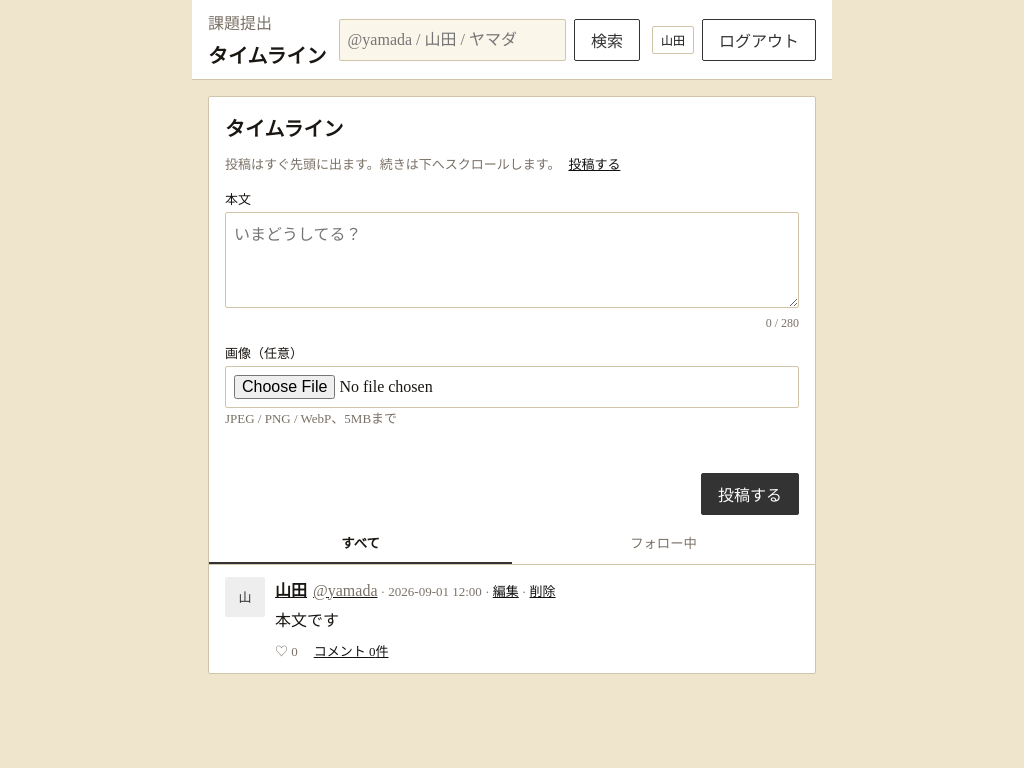
Test: TimelinePage › keeps the post when delete API fails
Expected: the text "本文です" is shown, [275,612,339,629]
Step 1. Click the button "削除" → click(543, 590), box [530,581,556,600]
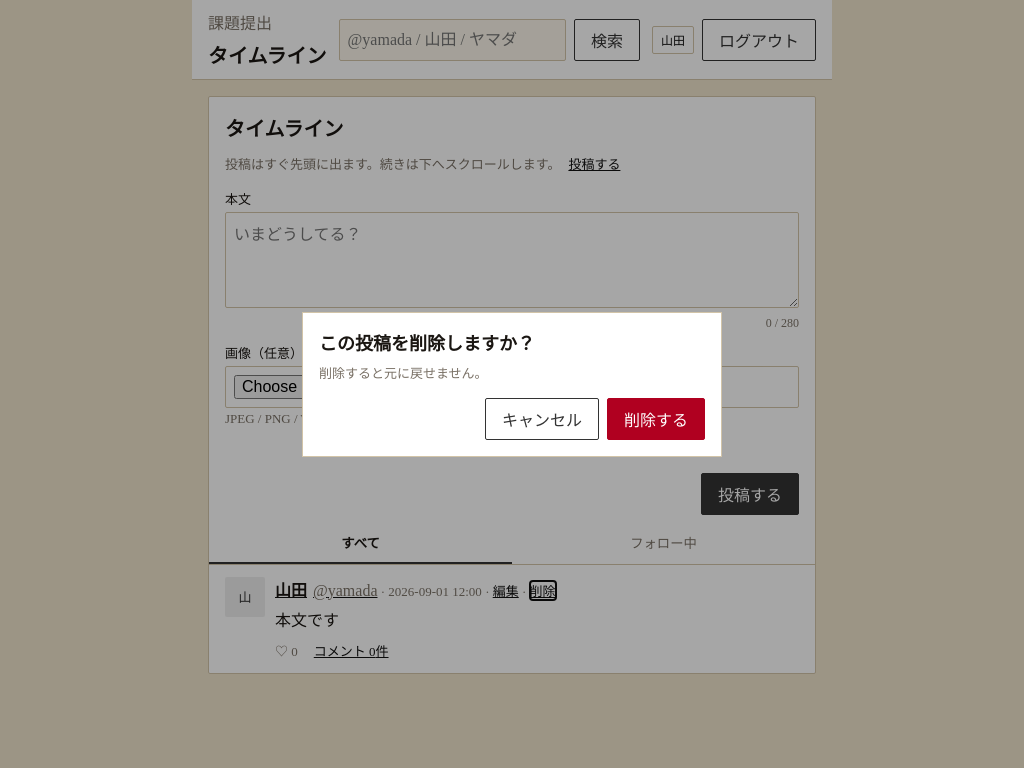
Step 2. Click the button "削除する" → click(656, 418), box [607,398,705,440]
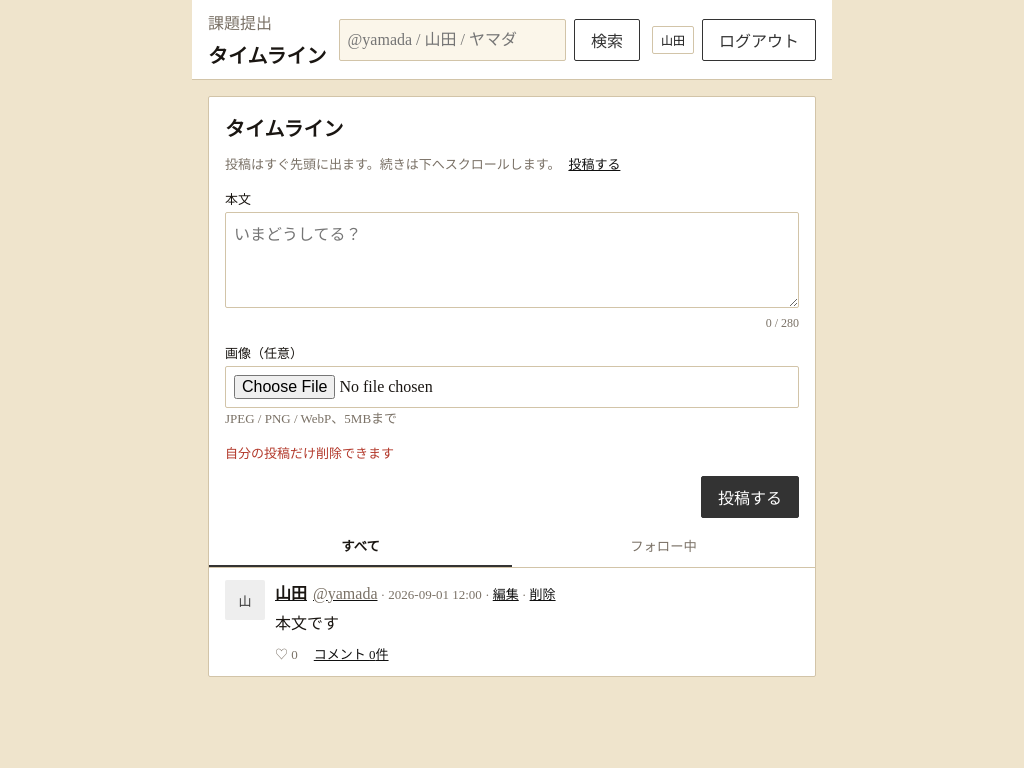
Expected: the text "本文です" is shown, [275,615,339,632]
Now the text "自分の投稿だけ削除できます" is shown, box [225,446,394,461]
